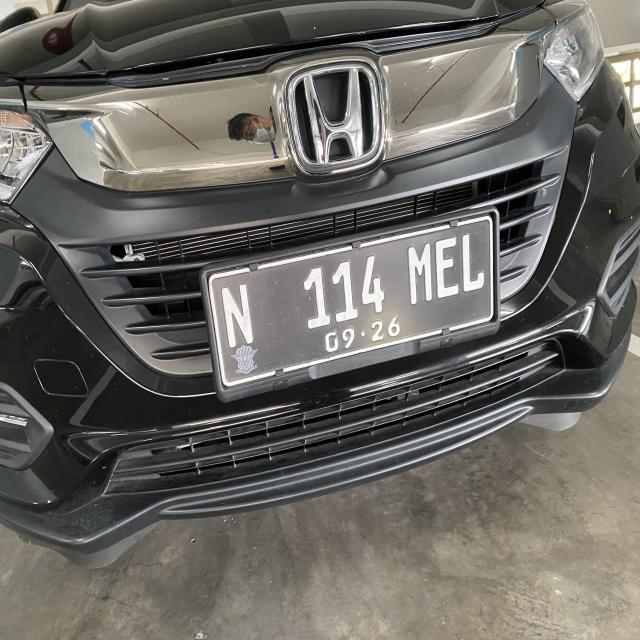1: (300, 265, 332, 331), (332, 259, 358, 324)
4: (360, 250, 388, 314)
E: (434, 238, 460, 298)
L: (461, 230, 488, 294)
M: (406, 242, 434, 304)
N: (220, 286, 262, 348)
